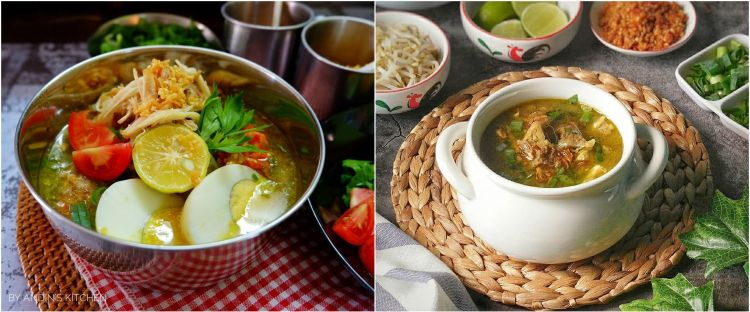soto: (5, 34, 336, 278), (444, 74, 693, 259)
